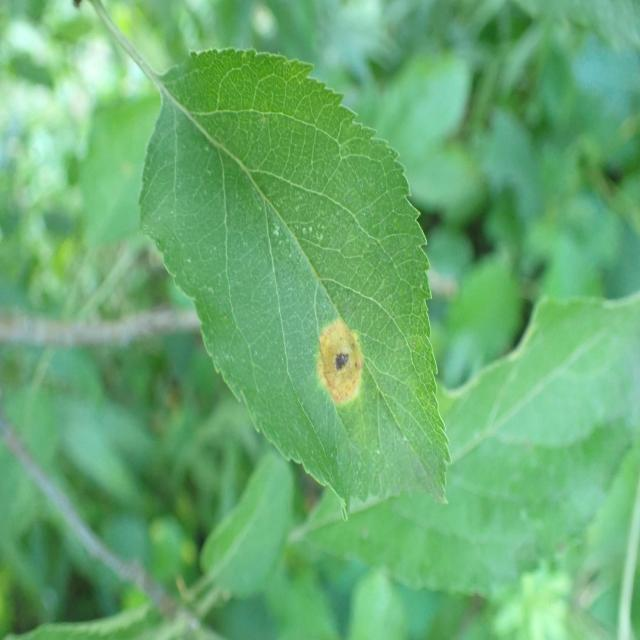Rust: (306, 255, 372, 452)
